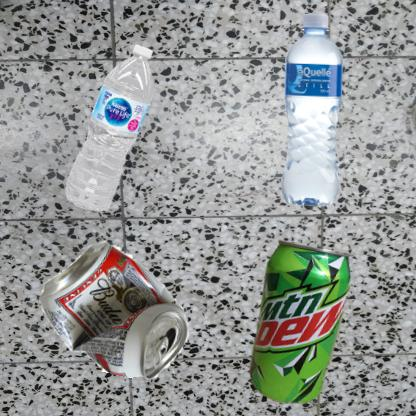botella: (10, 10, 242, 272), (213, 10, 412, 209)
lata: (10, 213, 246, 407), (213, 213, 396, 416)
